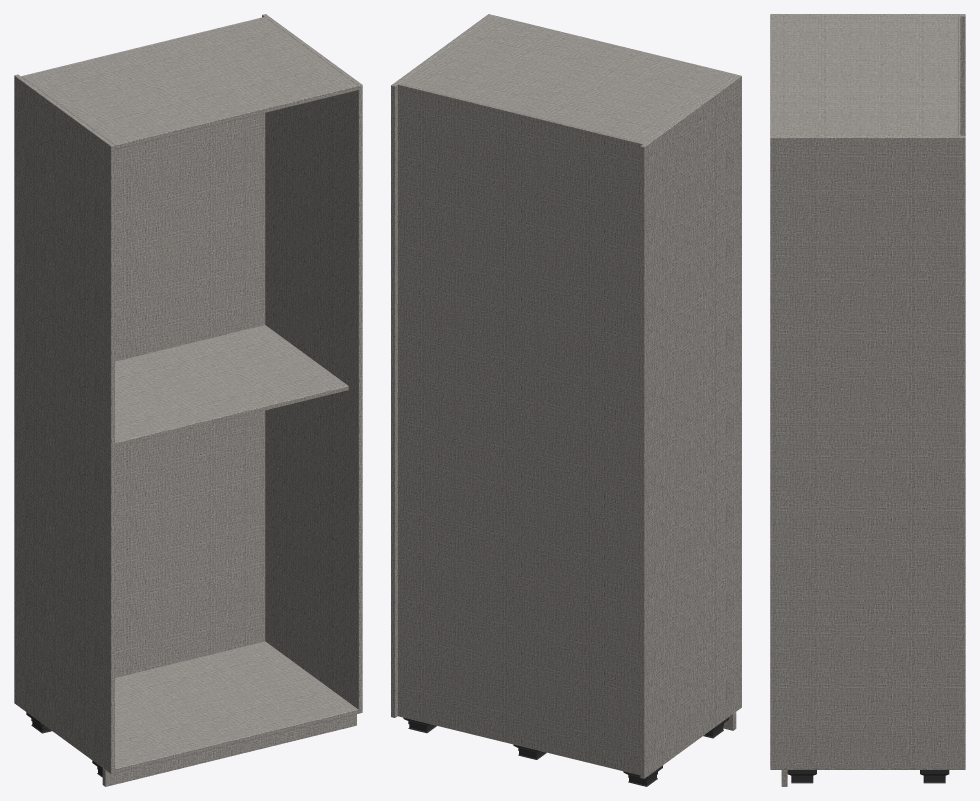
Rendered from cbib12141.gltf.
3 views of the same model, side by side, from view 1: azimuth 30°, elevation 25°; view 2: azimuth 150°, elevation 25°; view 3: azimuth 270°, elevation 25° (orthographic).
Parts seen in each view (by area): view 1: CBIB12141; view 2: CBIB12141; view 3: CBIB12141.
Part boxes in pixels (left/top/right/bottom): CBIB12141: left=14, top=14, right=362, bottom=786; CBIB12141: left=391, top=14, right=741, bottom=786; CBIB12141: left=770, top=14, right=965, bottom=786.
Bounding box in the file's own units: 0.9 × 2.2 × 0.6.
3 materials, 2 textured.
